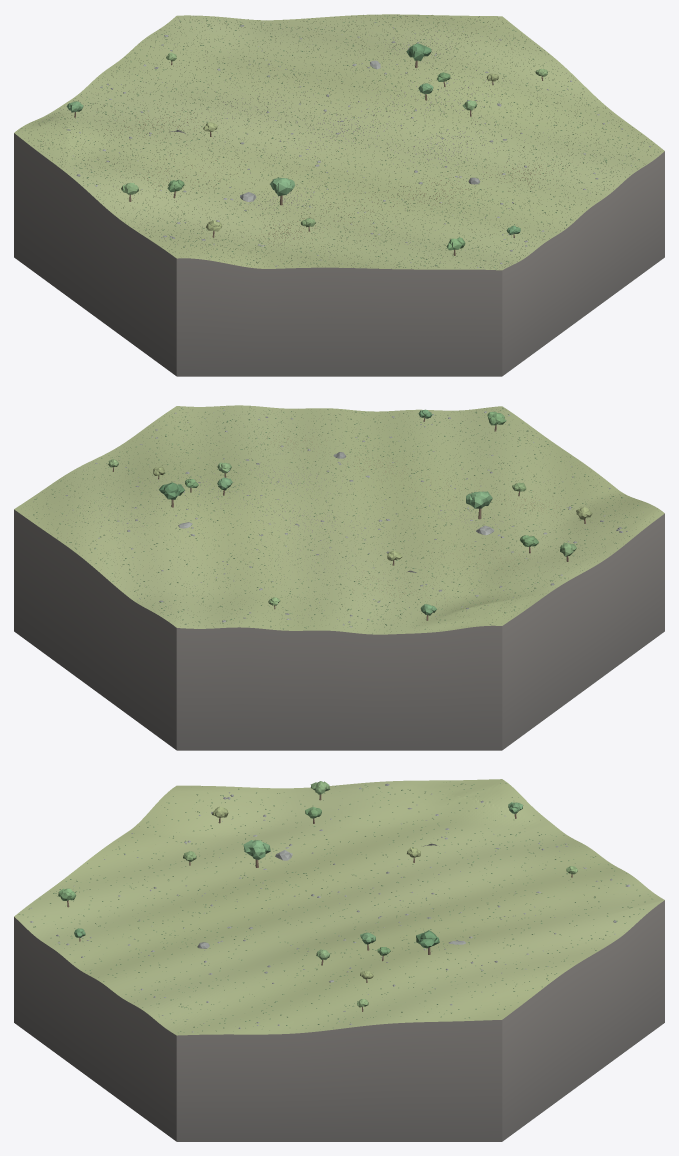
Rendered from 35_planicie_rochas_claras_5km.glb.
The picture shows the model from 3 angles, top to bottom: view 1: azimuth 30°, elevation 25°; view 2: azimuth 150°, elevation 25°; view 3: azimuth 270°, elevation 25°; orthographic projection.
Parts seen in each view (by area): view 1: terrain, hex_side_cut, wildflowers, shrubs, broadleaf_canopy, boulders; view 2: terrain, hex_side_cut, wildflowers, shrubs, broadleaf_canopy, boulders; view 3: terrain, hex_side_cut, shrubs, broadleaf_canopy, boulders.
Part boxes in pixels (x1,y1,x2,y2): terrain: (14, 14, 664, 270); hex_side_cut: (14, 133, 664, 376); wildflowers: (18, 15, 660, 269); shrubs: (21, 15, 658, 269); broadleaf_canopy: (66, 43, 547, 250); boulders: (67, 22, 650, 267); terrain: (14, 405, 664, 634); hex_side_cut: (14, 509, 664, 750); wildflowers: (33, 406, 645, 633); shrubs: (25, 406, 646, 633); broadleaf_canopy: (108, 409, 592, 615); boulders: (47, 410, 627, 627); terrain: (14, 779, 664, 1035); hex_side_cut: (14, 900, 664, 1141); shrubs: (18, 781, 653, 1033); broadleaf_canopy: (58, 781, 577, 1007); boulders: (30, 783, 630, 1032).
Size of the model in its own units: 4330 by 1280 by 5000.
